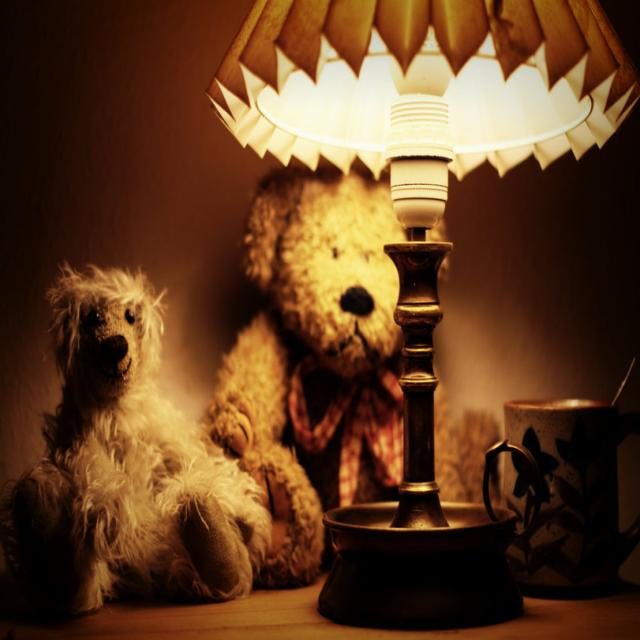Cup: (508, 369, 640, 597)
dog: (226, 132, 445, 605), (39, 258, 241, 640)
